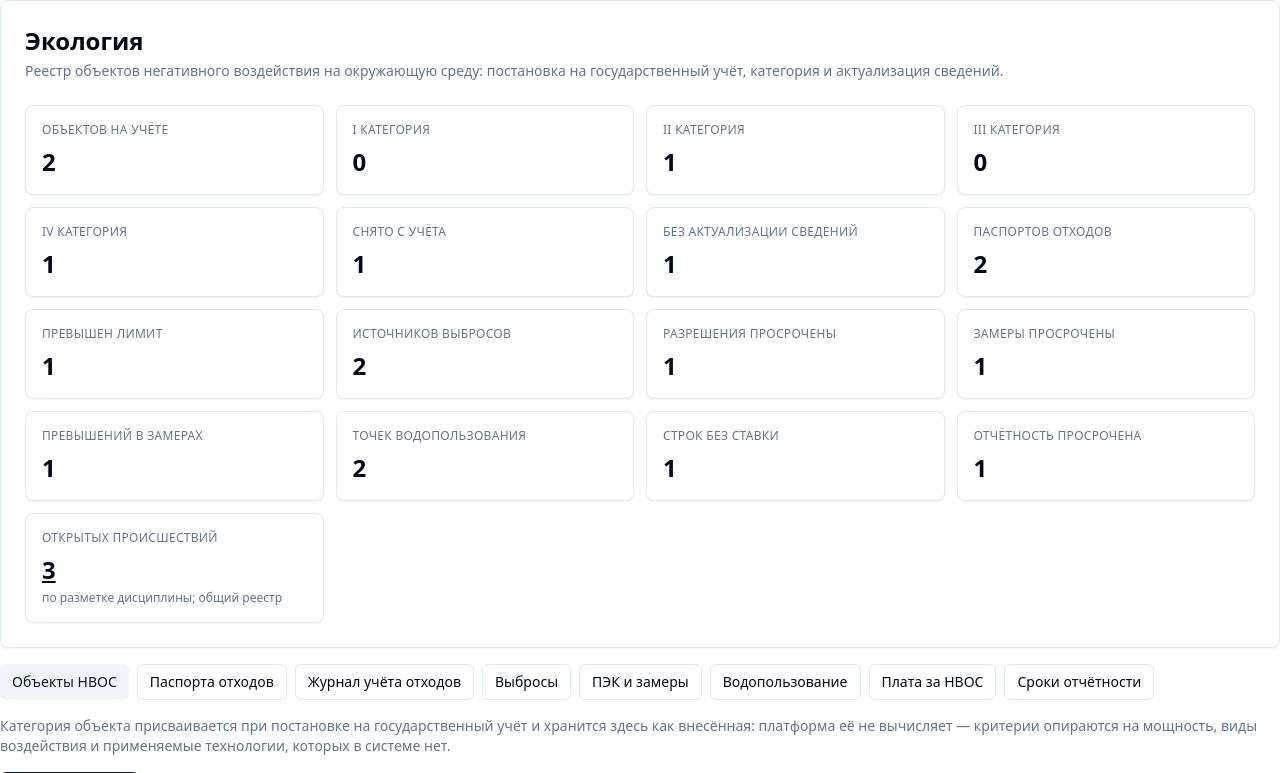
Scenario: EcologyPage › источник выбросов заводится с экрана (срез-100)
The image size is (1280, 773).
Click the button "Выбросы": (527,682) x1=482 y1=664 x2=571 y2=700
(page scrolled)
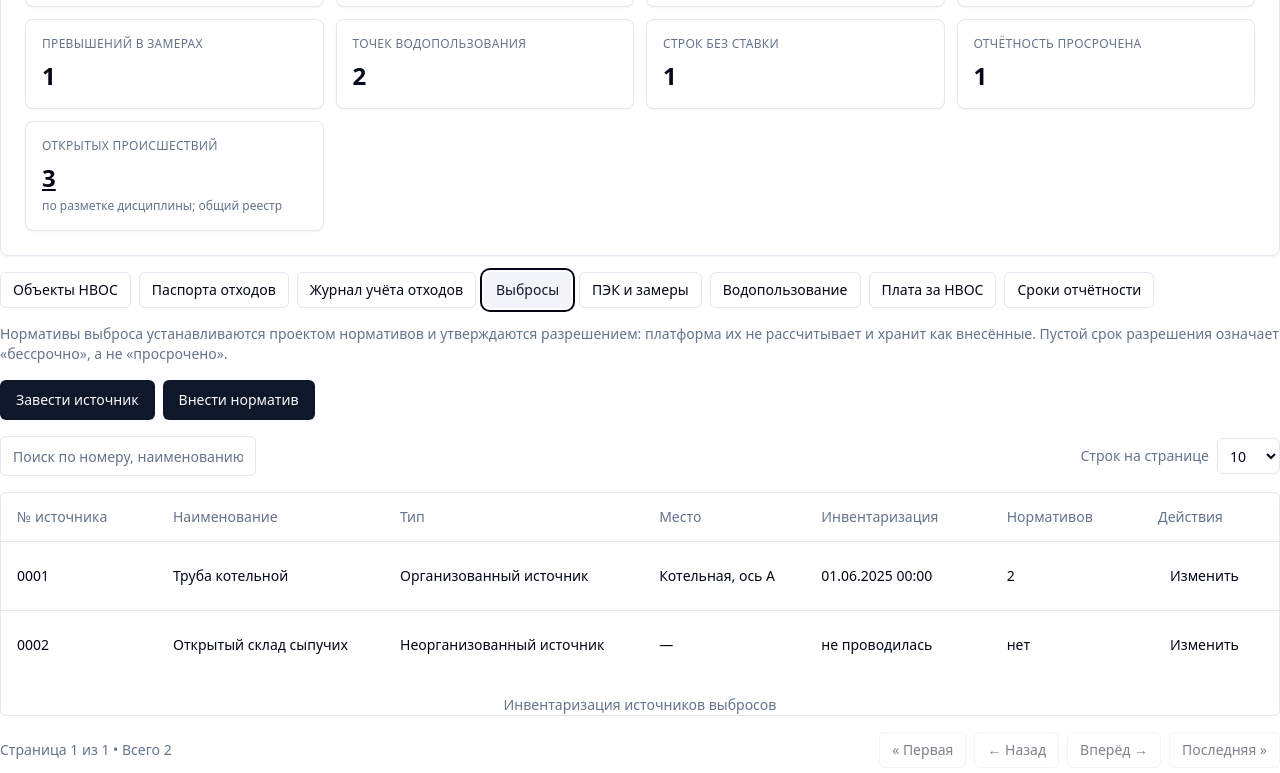
Check: the button "Внести норматив" is shown, box x1=163 y1=380 x2=315 y2=420
Click the button "Завести источник": (77,400) x1=0 y1=380 x2=155 y2=420
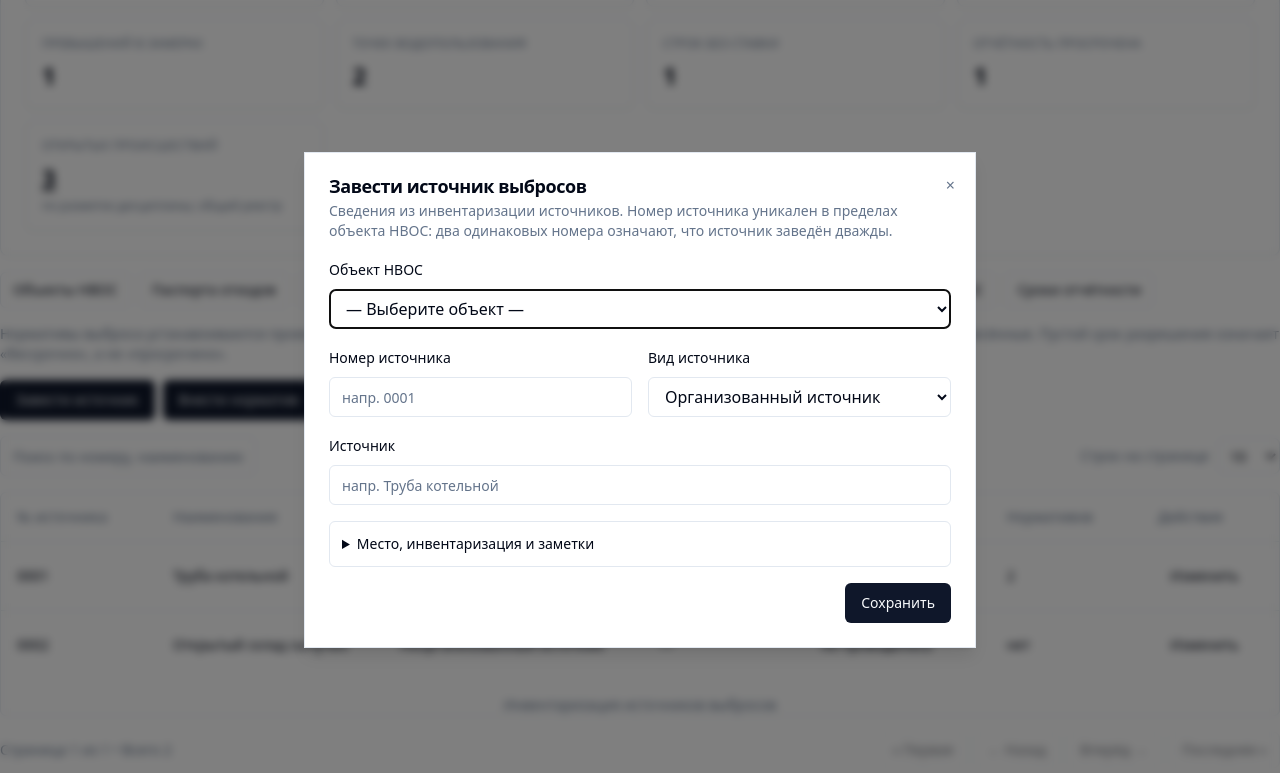
Select "Производственная площадка №1" in the dropdown labelled "Объект НВОС": (640,309) x1=329 y1=289 x2=951 y2=329
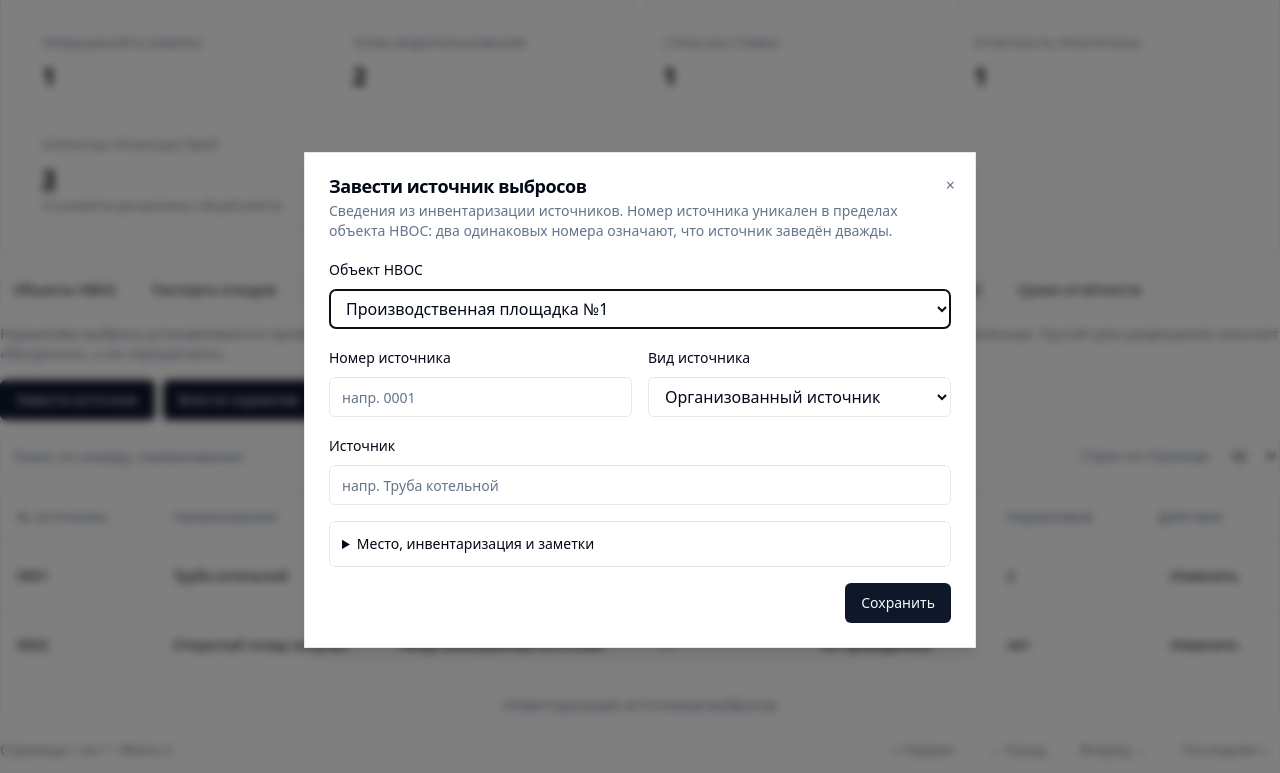
In the field labelled "Номер источника": (480,397) x1=329 y1=377 x2=632 y2=417, type "0009"
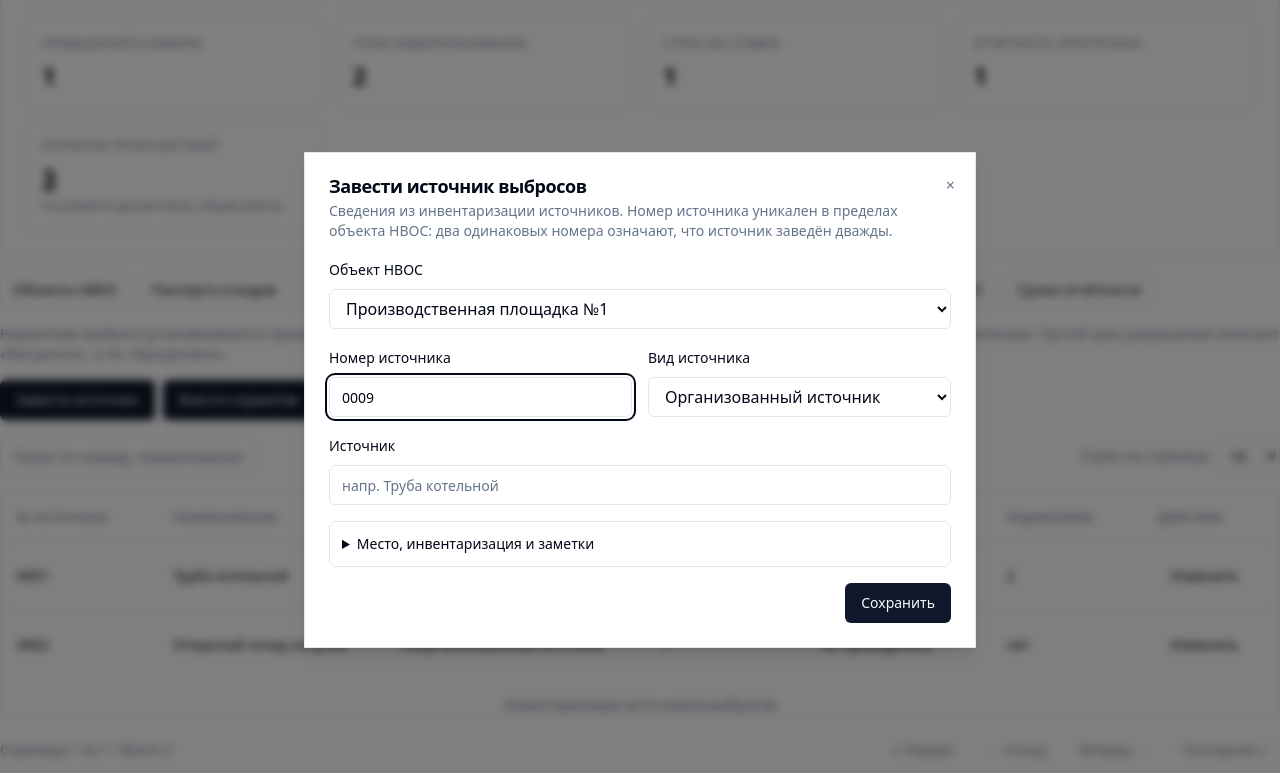
In the field labelled "Источник": (640,485) x1=329 y1=465 x2=951 y2=505, type "Сварочный пост"
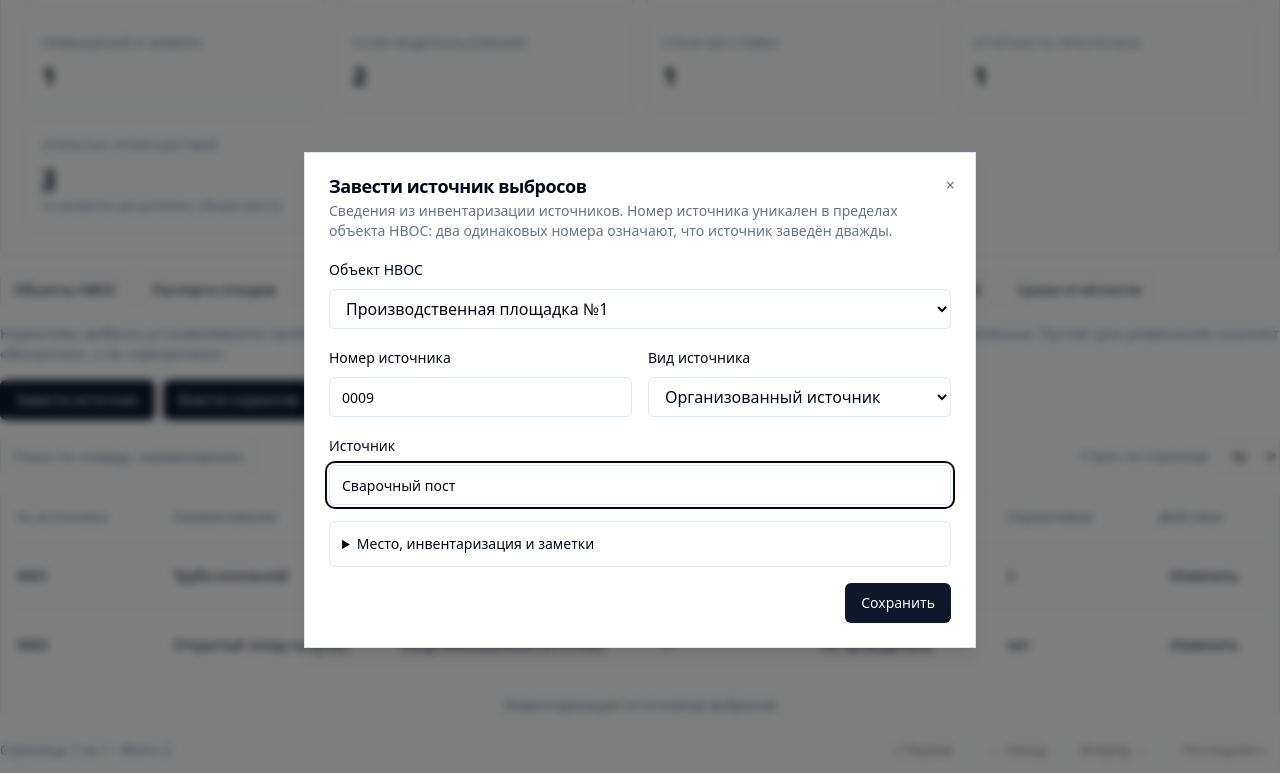
Click the button "Сохранить": (898,603) x1=845 y1=583 x2=951 y2=623
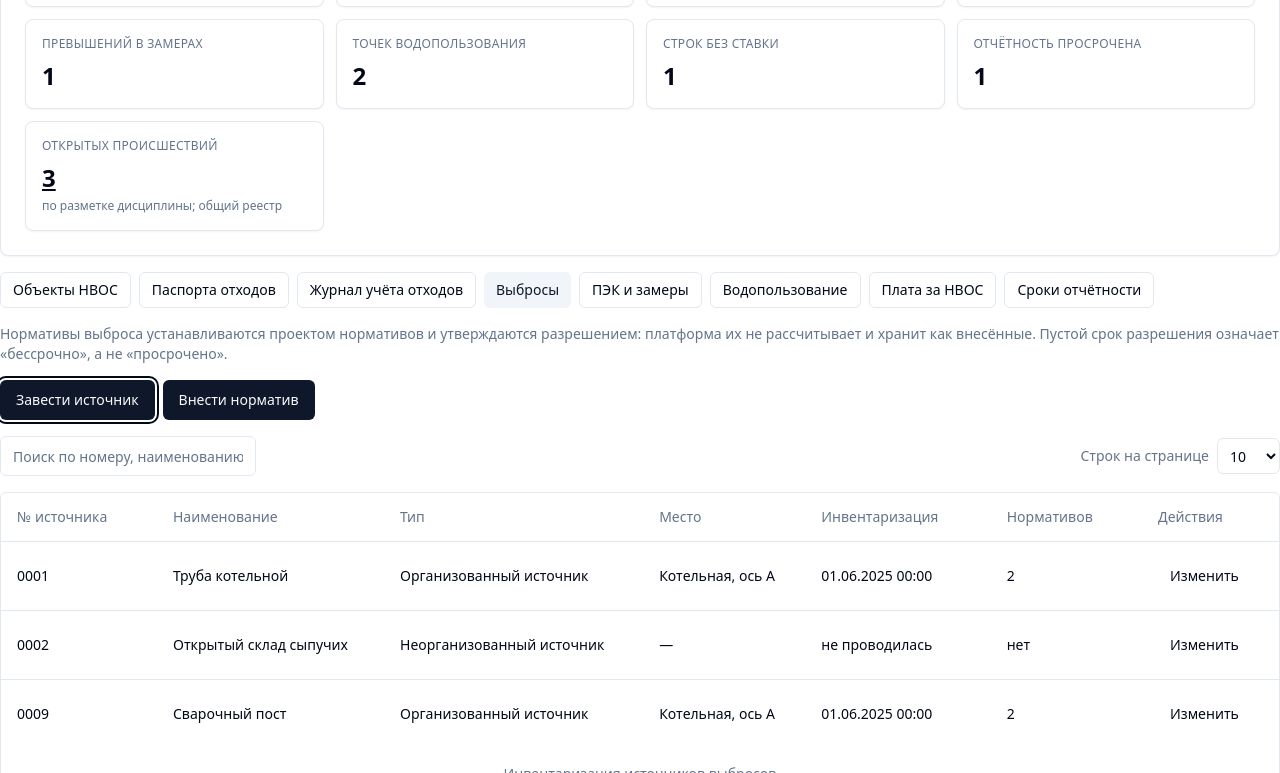
Check: the text "Сварочный пост" is shown, box x1=157 y1=679 x2=384 y2=748
